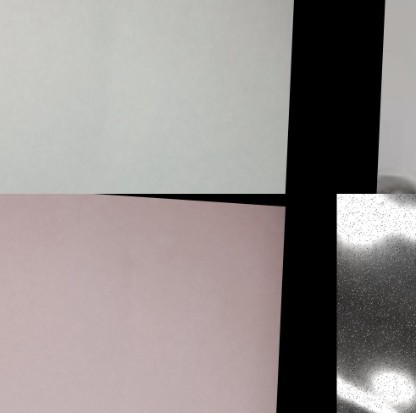ironball: (336, 194, 415, 413), (377, 171, 415, 194)
